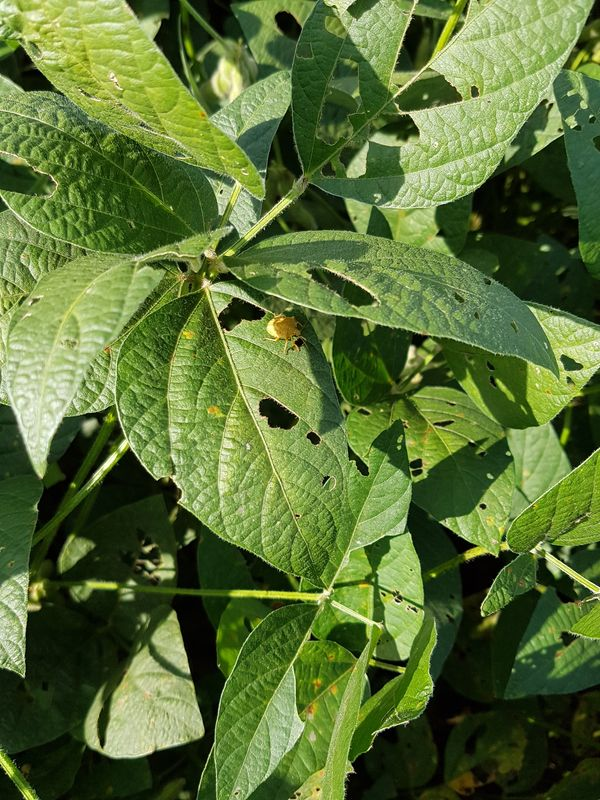Euschistus_heros_ninfa: (258, 304, 316, 358)
